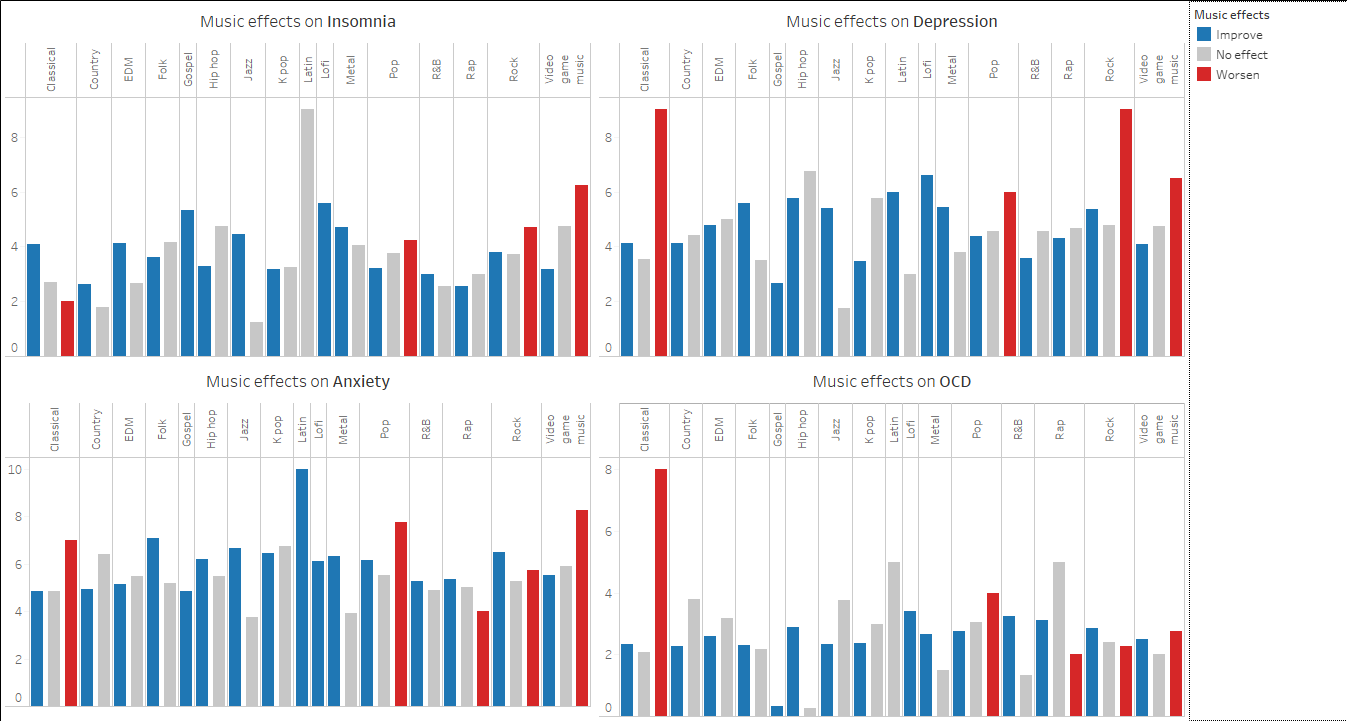

Layout of this report page (visuals, bound fields, positions):
{"tool":"tableau","page":{"name":"Music Effects by Fav. Genre","canvas":[1000,1000],"units":"permille","ordinal":1},"visuals":[{"type":"worksheet","title":"Effects Gen. - Insomn.","mark":"Automatic","rows":["Insomnia"],"cols":["Fav genre","Music effects"],"box":[7.8,15.2,422.9,484.8]},{"type":"worksheet","title":"Effects Gen. - Depression","mark":"Automatic","rows":["Depression"],"cols":["Fav genre","Music effects"],"box":[430.7,15.2,423,484.8]},{"type":"legend","title":"Effects Gen. - Insomn.","param":"[federated.15excv20jf3q8i1dlxm401oqn1cc].[none:Music effects:nk]","box":[854.5,16.9,136.8,145.3]},{"type":"worksheet","title":"Effects Gen. - Anxiety","mark":"Automatic","rows":["Anxiety"],"cols":["Fav genre","Music effects"],"box":[7.8,500,422.9,484.8]},{"type":"worksheet","title":"Effects Gen. - OCD","mark":"Automatic","rows":["OCD"],"cols":["Fav genre","Music effects"],"box":[430.7,500,423,484.8]}]}

Visuals, with their boxes on the dashboard's canvas, which has no fixed pixel size, in thousandths of its width and height (x1, y1, x2, y2). These are canvas units, not pixel positions in the 1347x721 screenshot, which may show the page scaled, cropped or inside an application window:
"Effects Gen. - Insomn." worksheet: <region>8, 15, 431, 500</region>
"Effects Gen. - Depression" worksheet: <region>431, 15, 854, 500</region>
"Effects Gen. - Insomn." legend: <region>854, 17, 991, 162</region>
"Effects Gen. - Anxiety" worksheet: <region>8, 500, 431, 985</region>
"Effects Gen. - OCD" worksheet: <region>431, 500, 854, 985</region>
